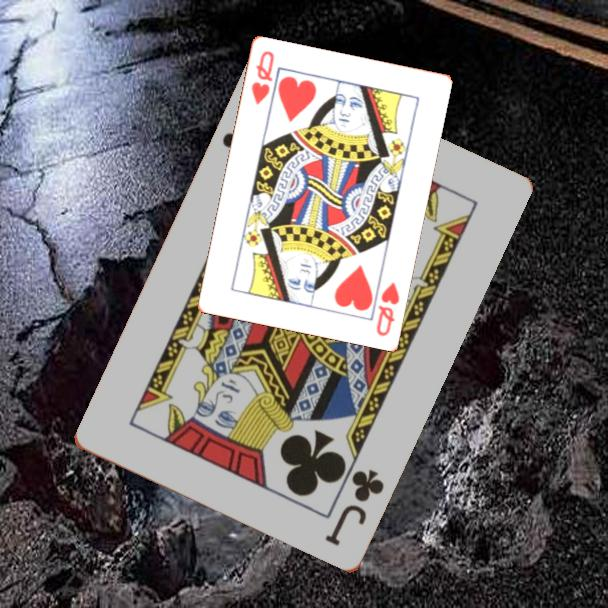c11: (321, 466, 388, 550)
h12: (372, 278, 402, 339), (248, 47, 277, 108)
